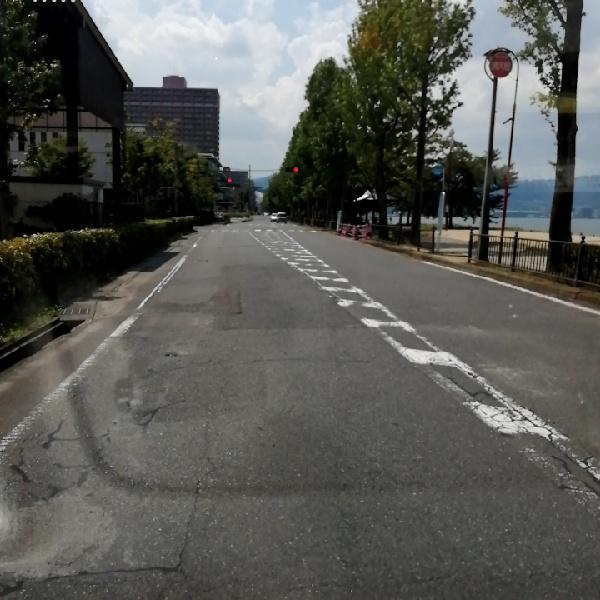D00: (169, 461, 216, 567), (229, 285, 245, 318)
D10: (2, 547, 186, 593), (247, 353, 371, 374)
D20: (4, 327, 182, 497)
D44: (286, 242, 578, 467), (0, 230, 198, 475), (273, 235, 476, 408)
